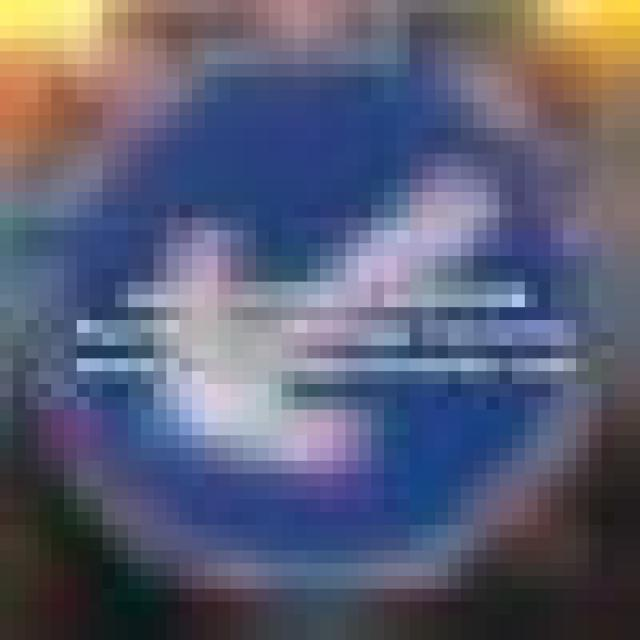compulsory_cycle_track: (0, 0, 627, 627)
